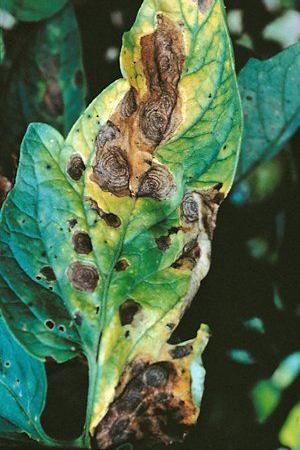Tomato Early blight leaf: (12, 0, 292, 444)
